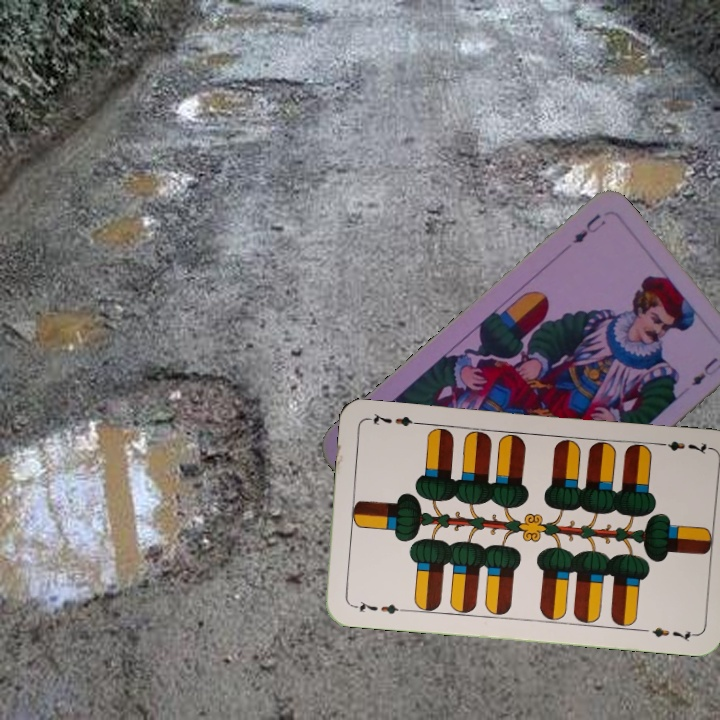E7: (348, 596, 407, 617), (653, 437, 712, 457)
EU: (568, 210, 608, 247)
